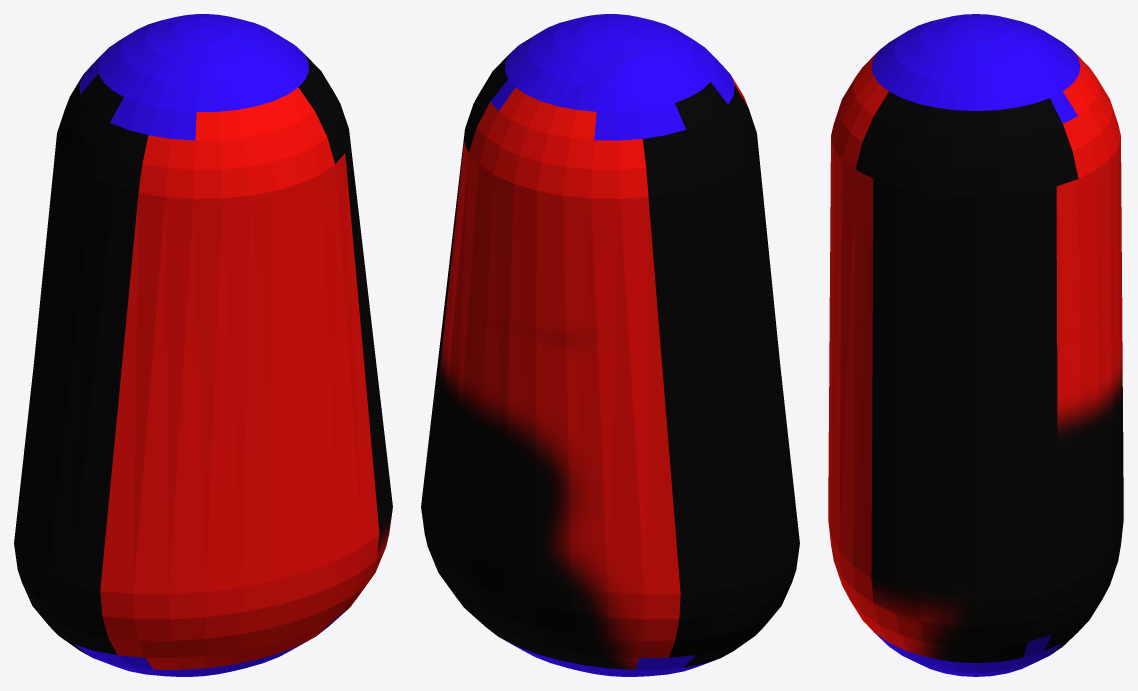
Rendered from float_Body.obj.
3 renders of one model, left to right at view 1: azimuth 30°, elevation 25°; view 2: azimuth 150°, elevation 25°; view 3: azimuth 270°, elevation 25°, orthographic.
Visible parts, largest first — view 1: Body; view 2: Body; view 3: Body.
Boxes of the visible parts, <box> form: Body: <box>14,14,392,676</box>; Body: <box>421,14,799,676</box>; Body: <box>828,14,1123,676</box>.
Size of the model in its own units: 1.06 by 1.84 by 0.789.
